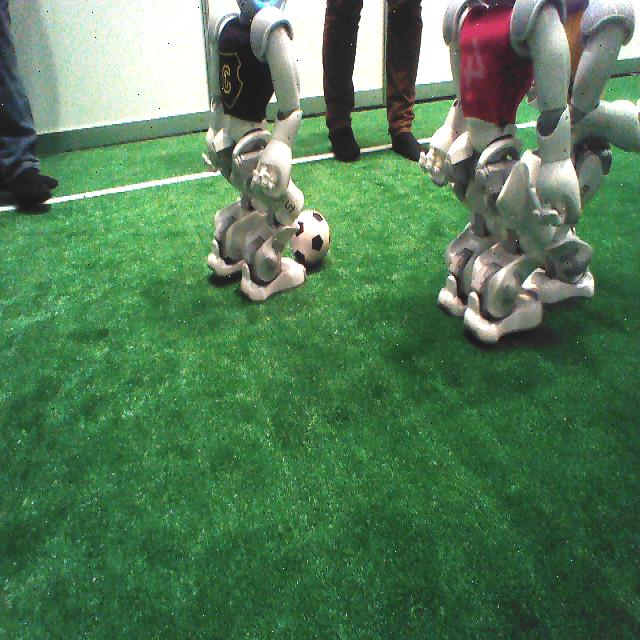ball: (287, 207, 335, 269)
